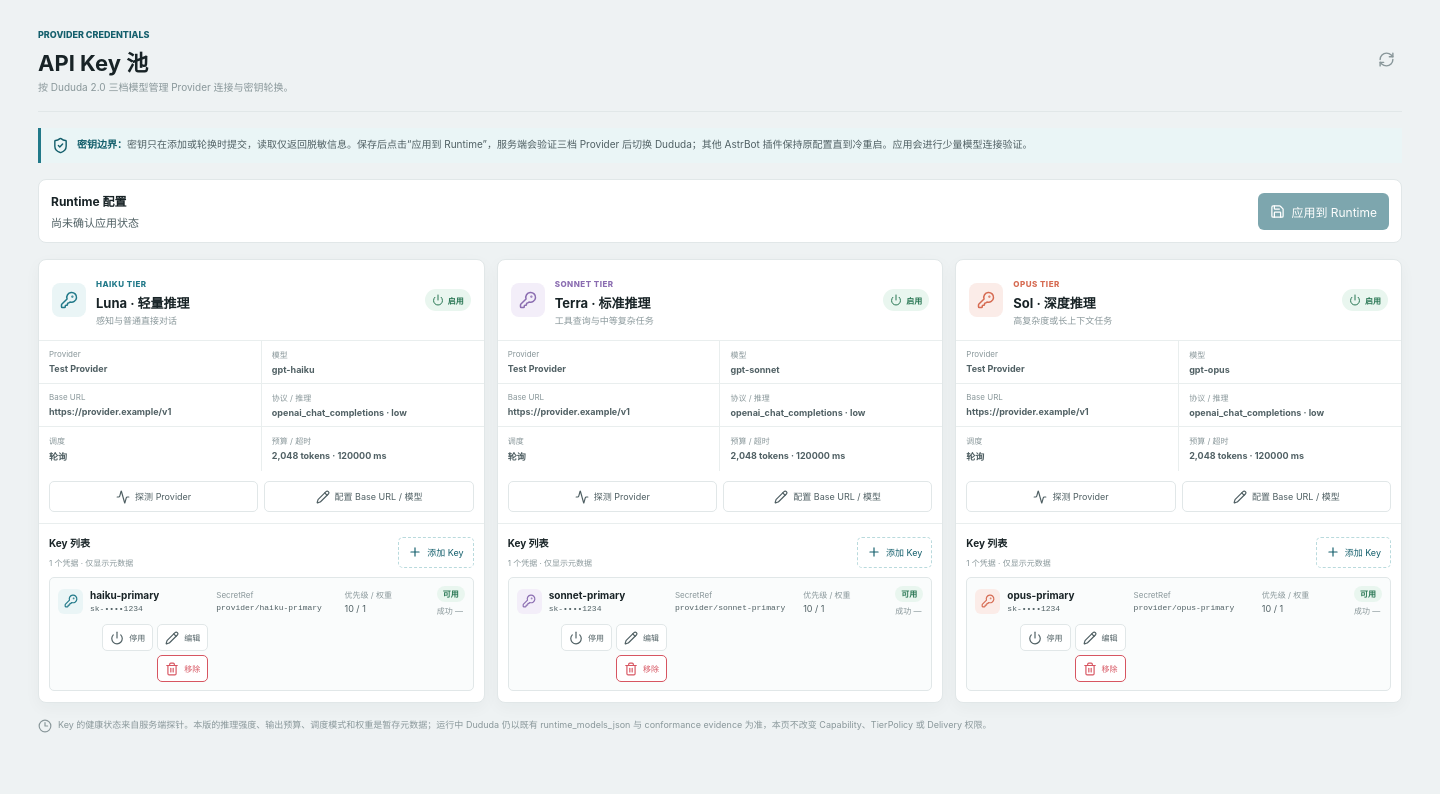
Test: ApiKeyPoolsView › submits a new secret only on explicit create and clears it from the component immediately
Step 1. Click the button with class "add-key" below "gpt-haiku" → (436, 552), box [398, 536, 474, 568]
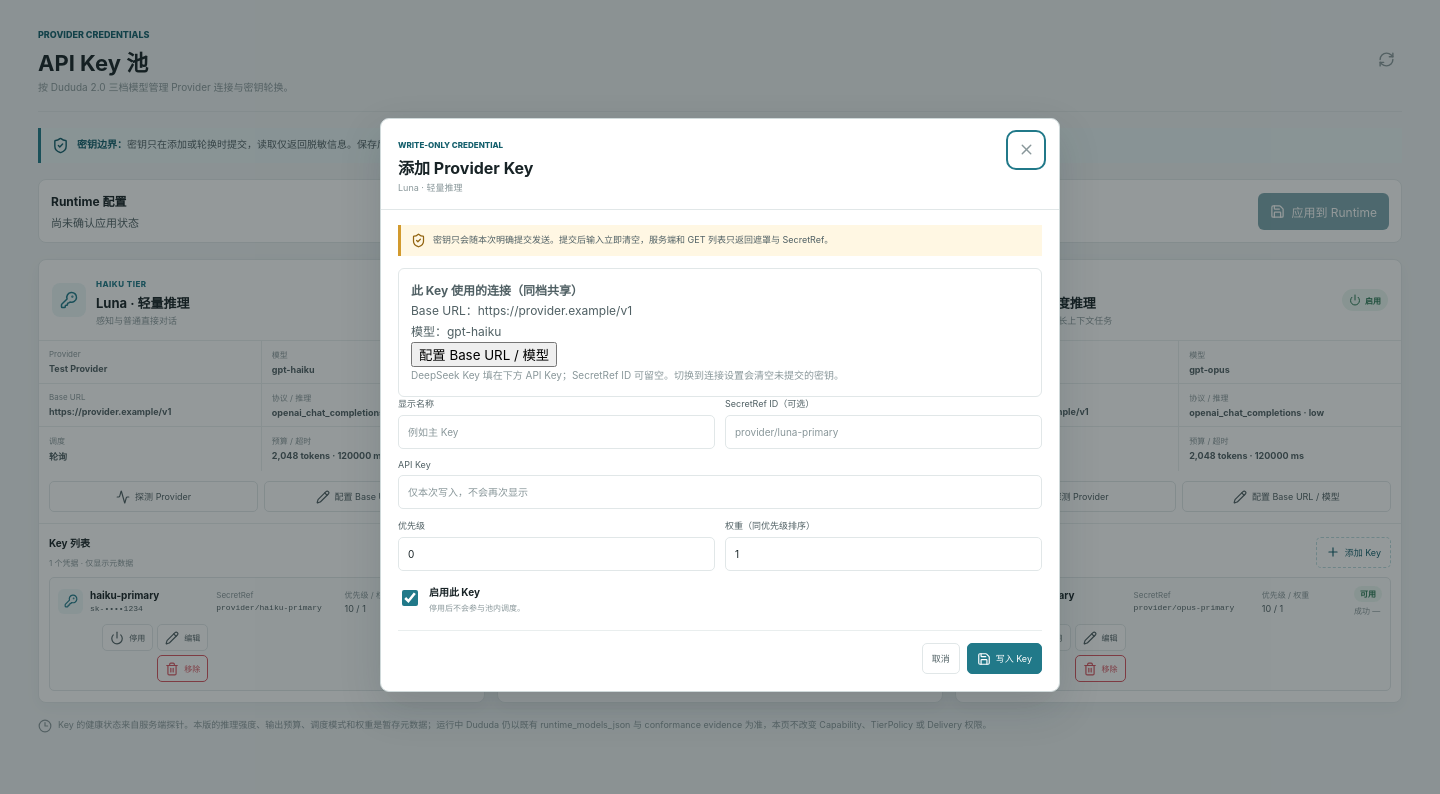
Step 2. Type "备用 Luna" into the field with placeholder "例如主 Key" → (556, 432), box [398, 415, 715, 449]
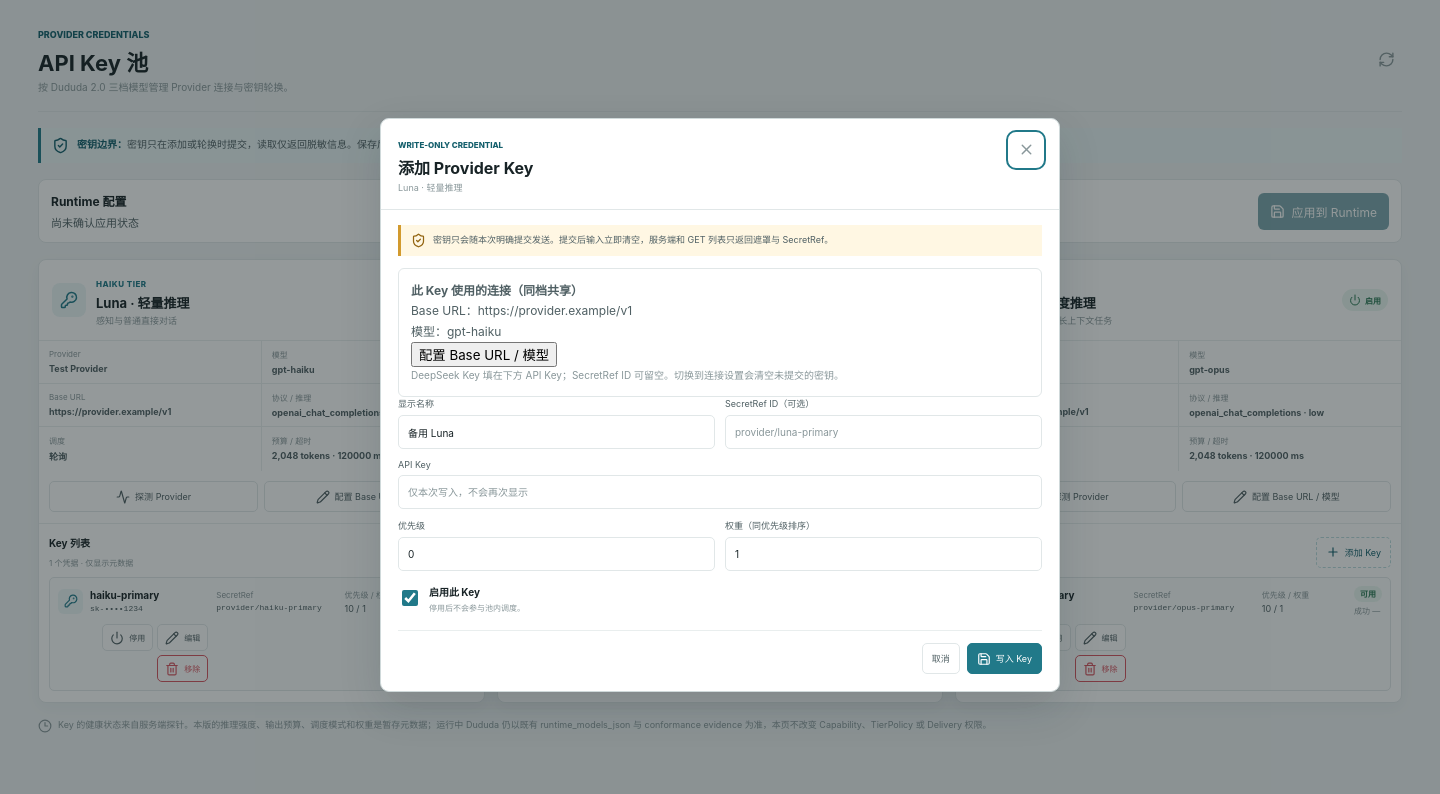
Step 3. Type "unit-test-private-value" into the password field labelled "API Key" → (720, 492), box [398, 475, 1042, 509]
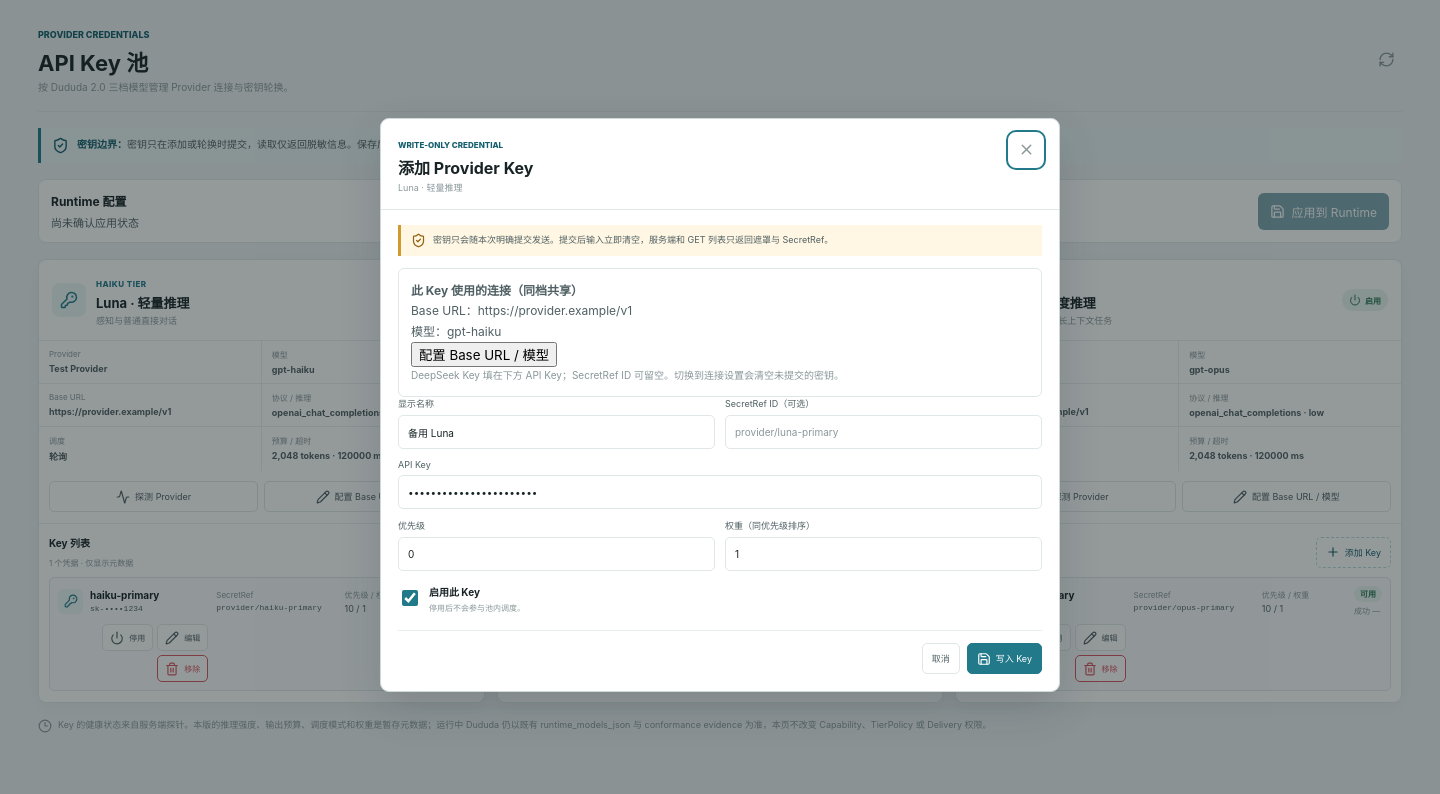
Step 4. Type "provider/luna-secondary" into the field with placeholder "provider/luna-primary" → (884, 432), box [725, 415, 1042, 449]
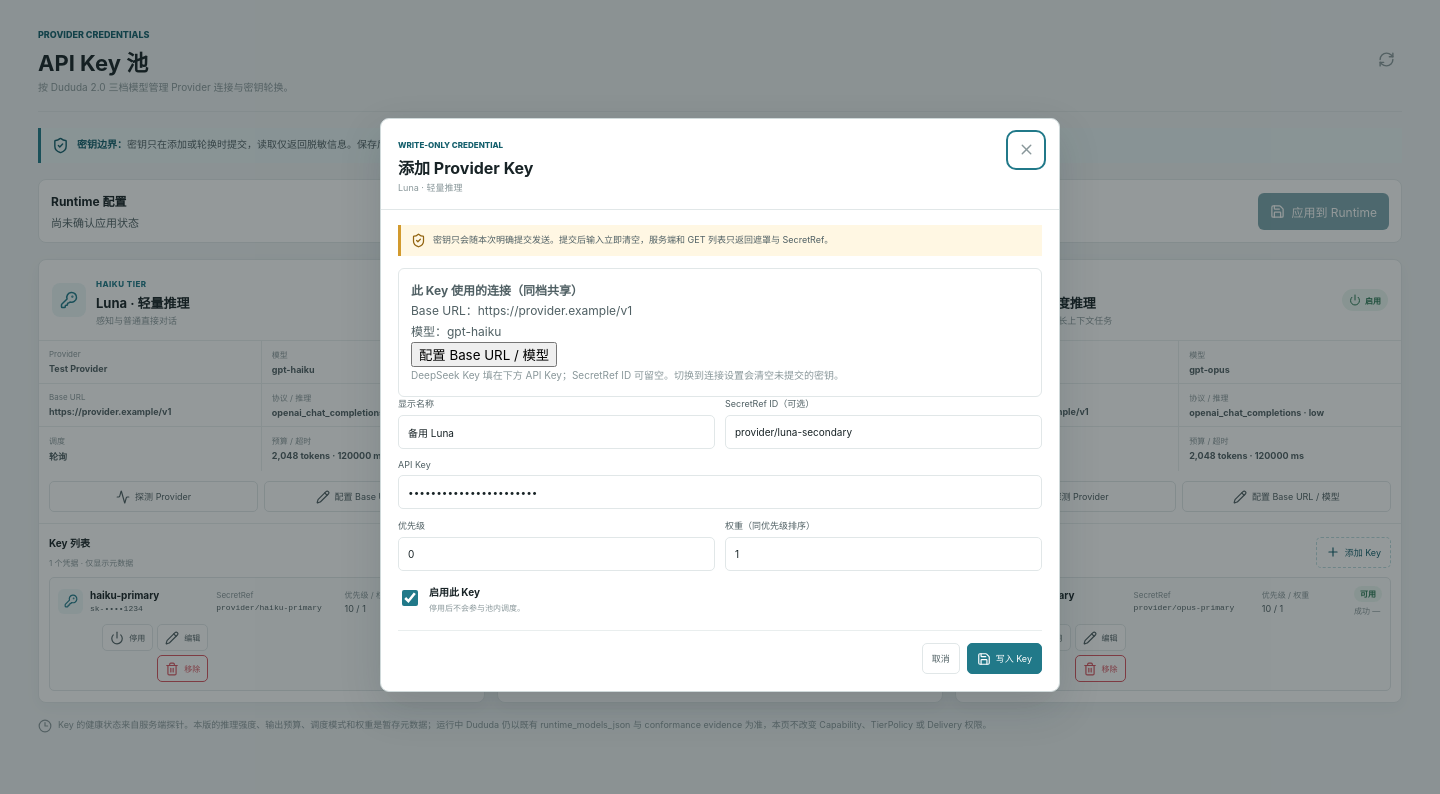
Step 5. Submit the form, box [381, 210, 1059, 691]
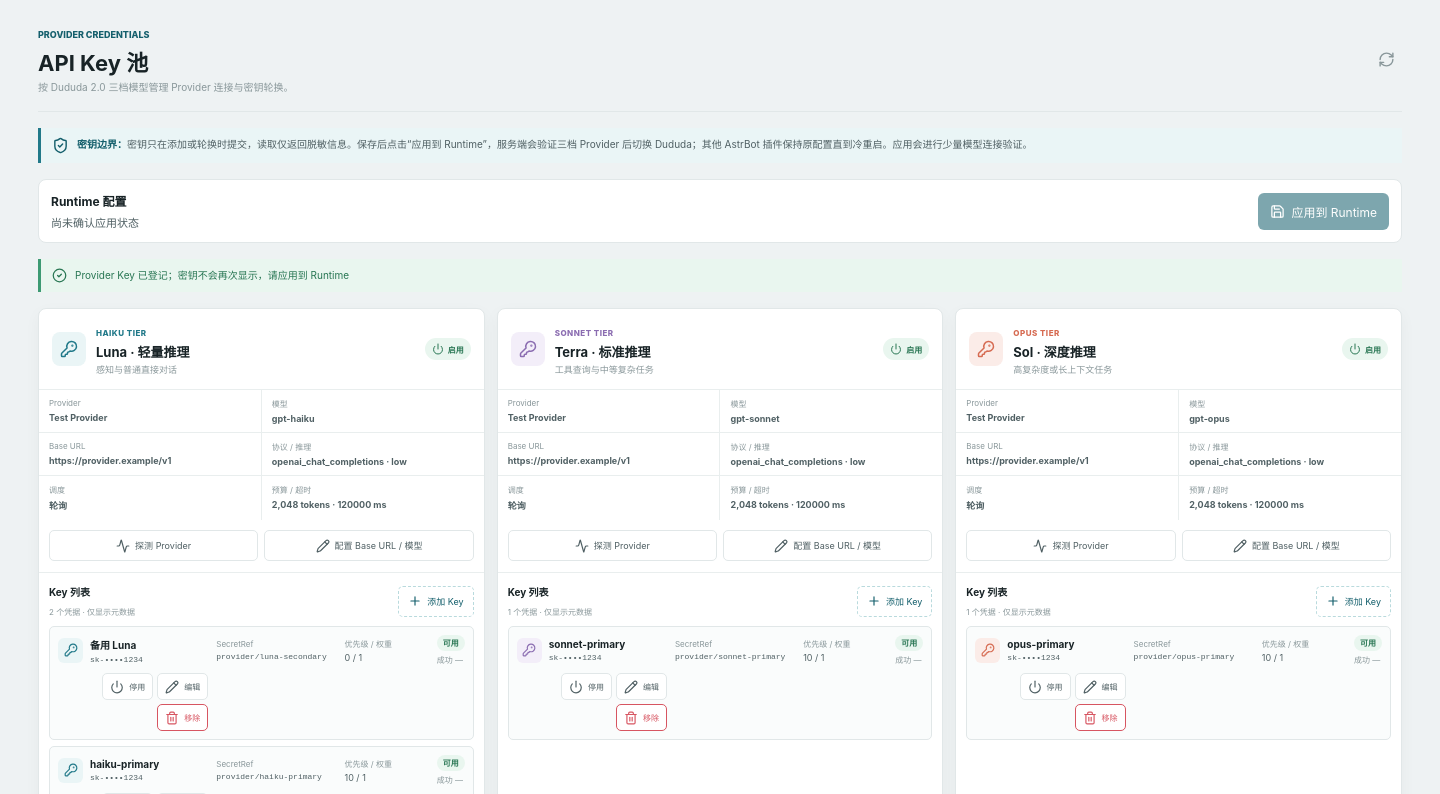
Expected: the text "备用 Luna" is shown, [90, 636, 143, 652]
